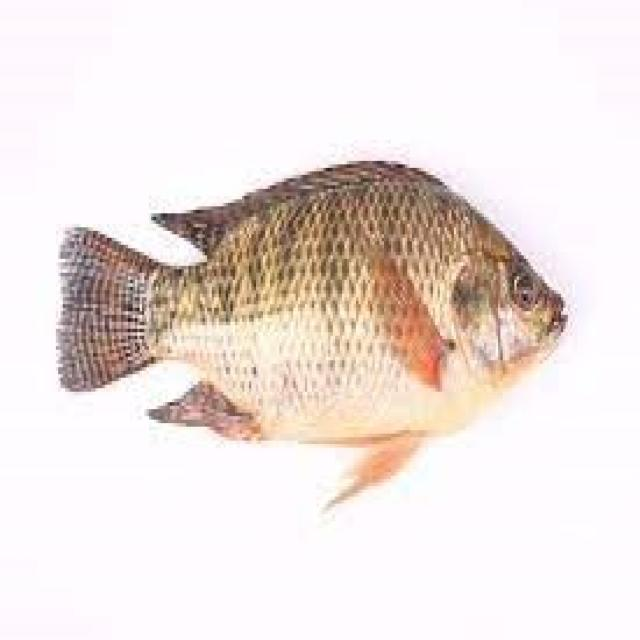ikan: (53, 154, 568, 514)
